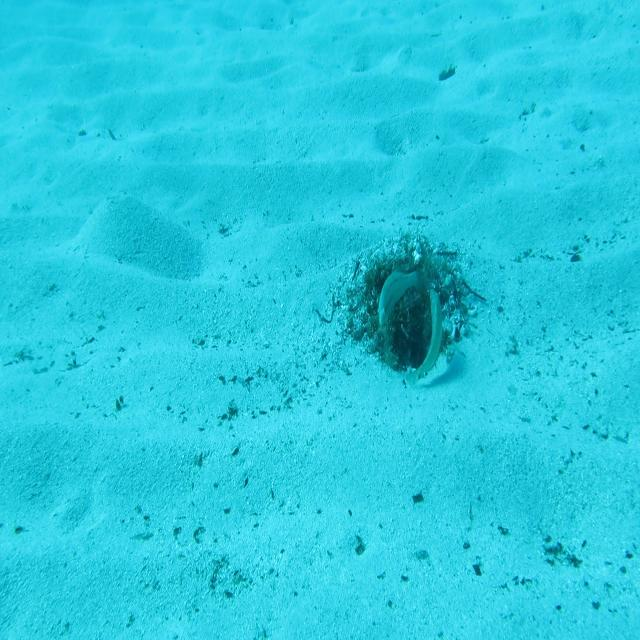DAN_CIRC: (409, 283, 446, 384)
female: (375, 254, 431, 332)
nest: (354, 230, 481, 381)
